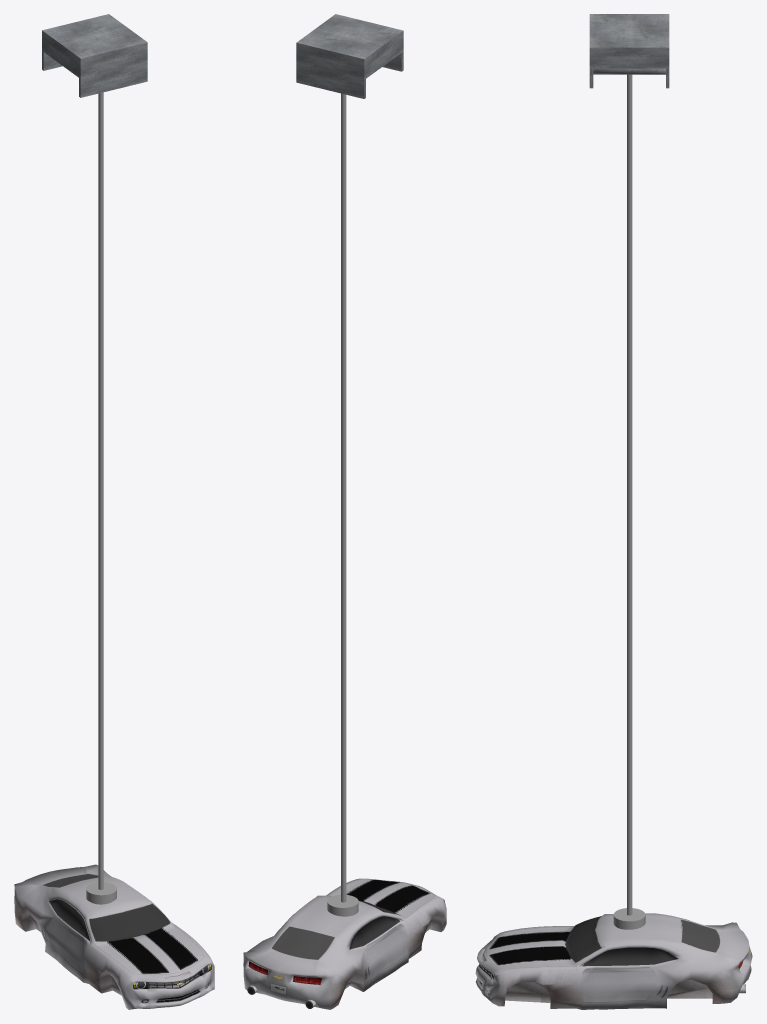
The model's file is windeMitAuto.obj.
3 views of the same model, side by side, from view 1: azimuth 30°, elevation 25°; view 2: azimuth 150°, elevation 25°; view 3: azimuth 270°, elevation 25° (orthographic). The views are drawn at different scales.
Visible parts, largest first — view 1: default_002_ID31, winde_ID40, Zylinder.1_ID13, Zylinder_ID22; view 2: default_002_ID31, winde_ID40, Zylinder.1_ID13, Zylinder_ID22; view 3: default_002_ID31, winde_ID40, Zylinder.1_ID13.
Boxes of the visible parts, x1,y1,x2,y2 form: default_002_ID31: (14,864,214,1009); winde_ID40: (42,14,147,97); Zylinder.1_ID13: (98,92,103,889); Zylinder_ID22: (86,882,116,904); default_002_ID31: (243,878,446,1009); winde_ID40: (296,14,403,98); Zylinder.1_ID13: (341,93,346,902); Zylinder_ID22: (327,894,358,916); default_002_ID31: (475,913,752,1009); winde_ID40: (589,14,669,88); Zylinder.1_ID13: (627,74,632,915).
Size of the model in its own units: 0.0855 by 0.7891 by 0.2087.
3 materials, 2 textured.
